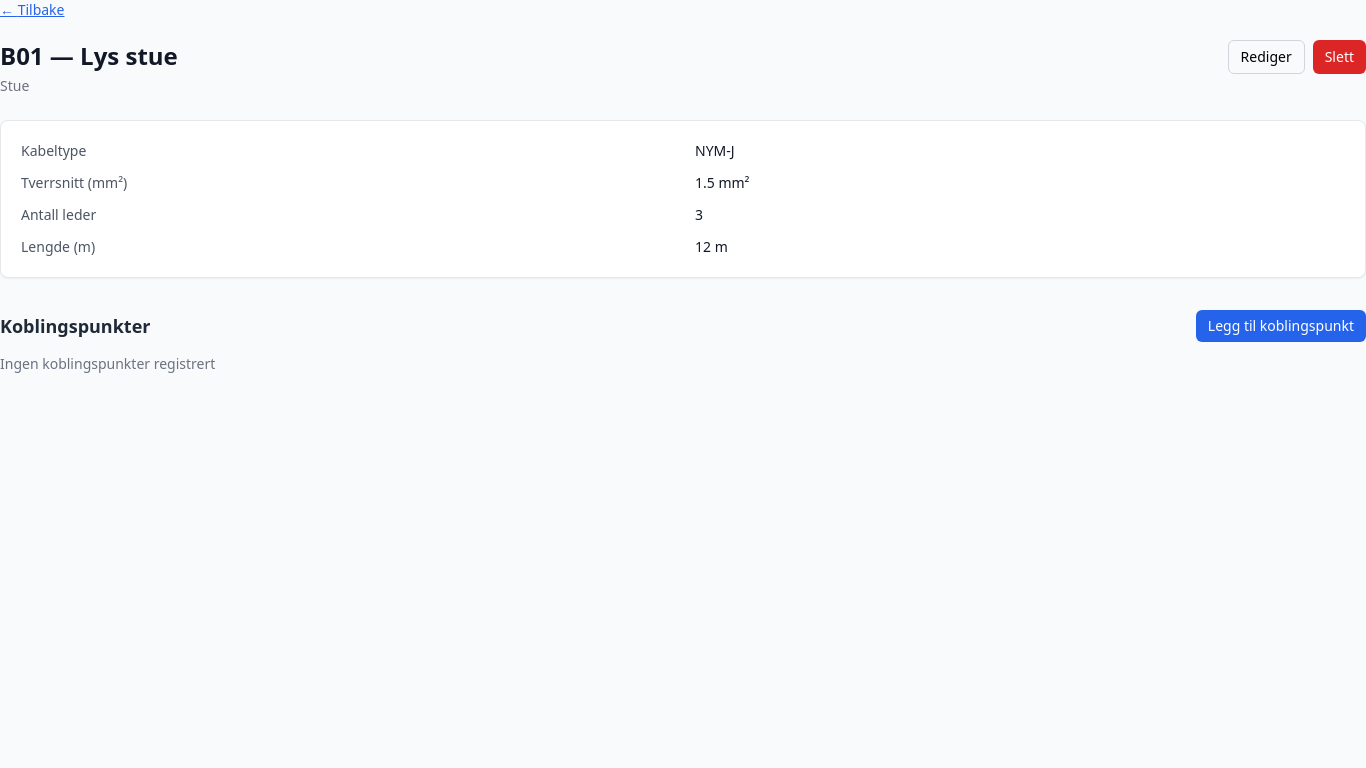
Test: CircuitDetail — connection point dialog validation › shows location error when submitting without location
Click the button "Legg til koblingspunkt": x=1281, y=326 [1196, 310, 1365, 342]
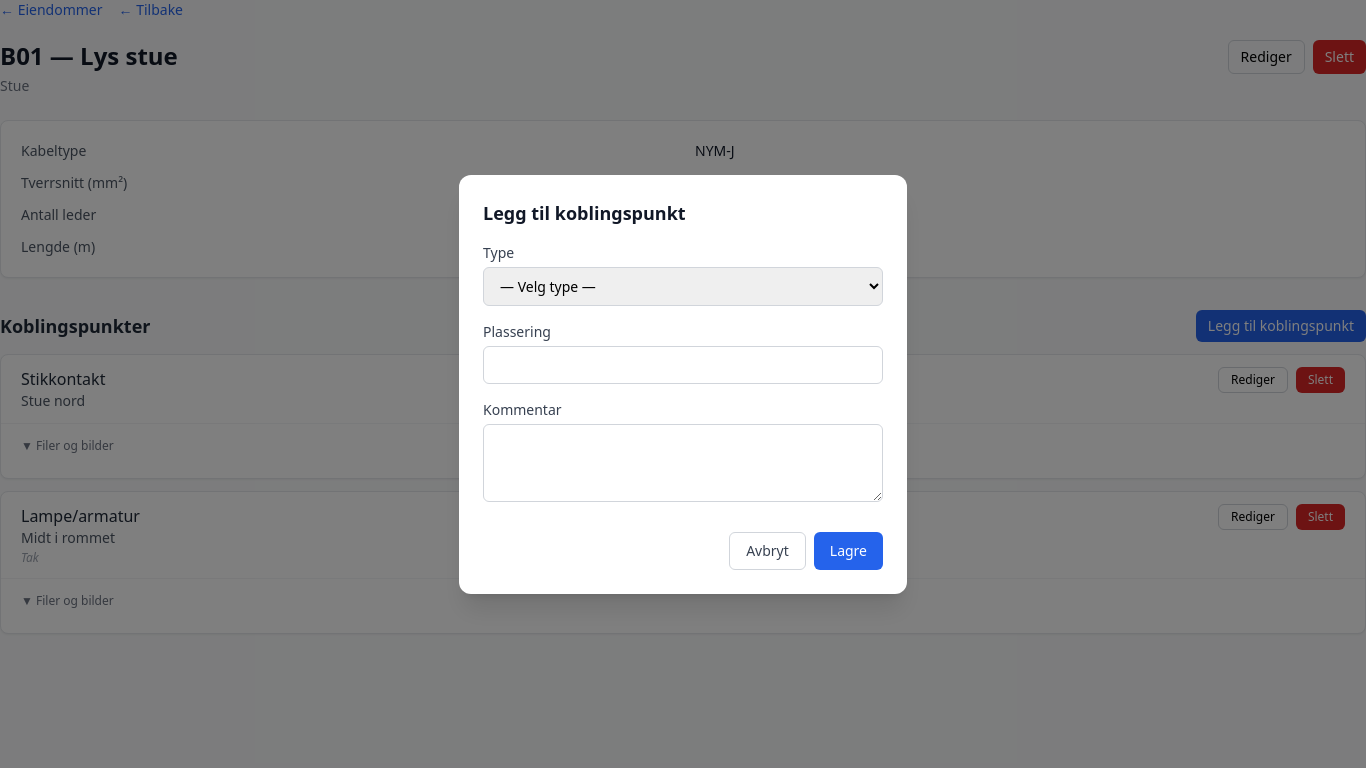
Select "Stikkontakt" in the dropdown: x=683, y=286 [483, 266, 883, 306]
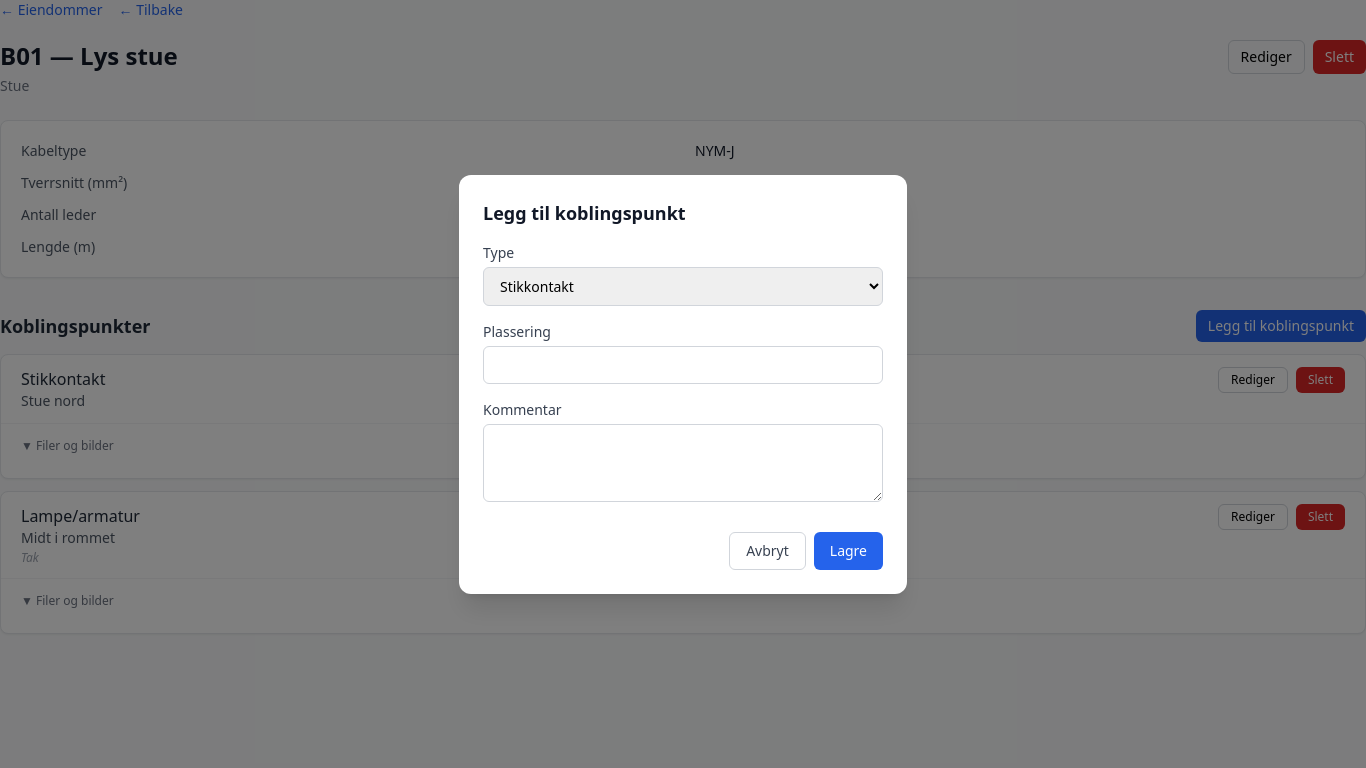
Click the button "Lagre": x=848, y=550 [814, 532, 883, 570]
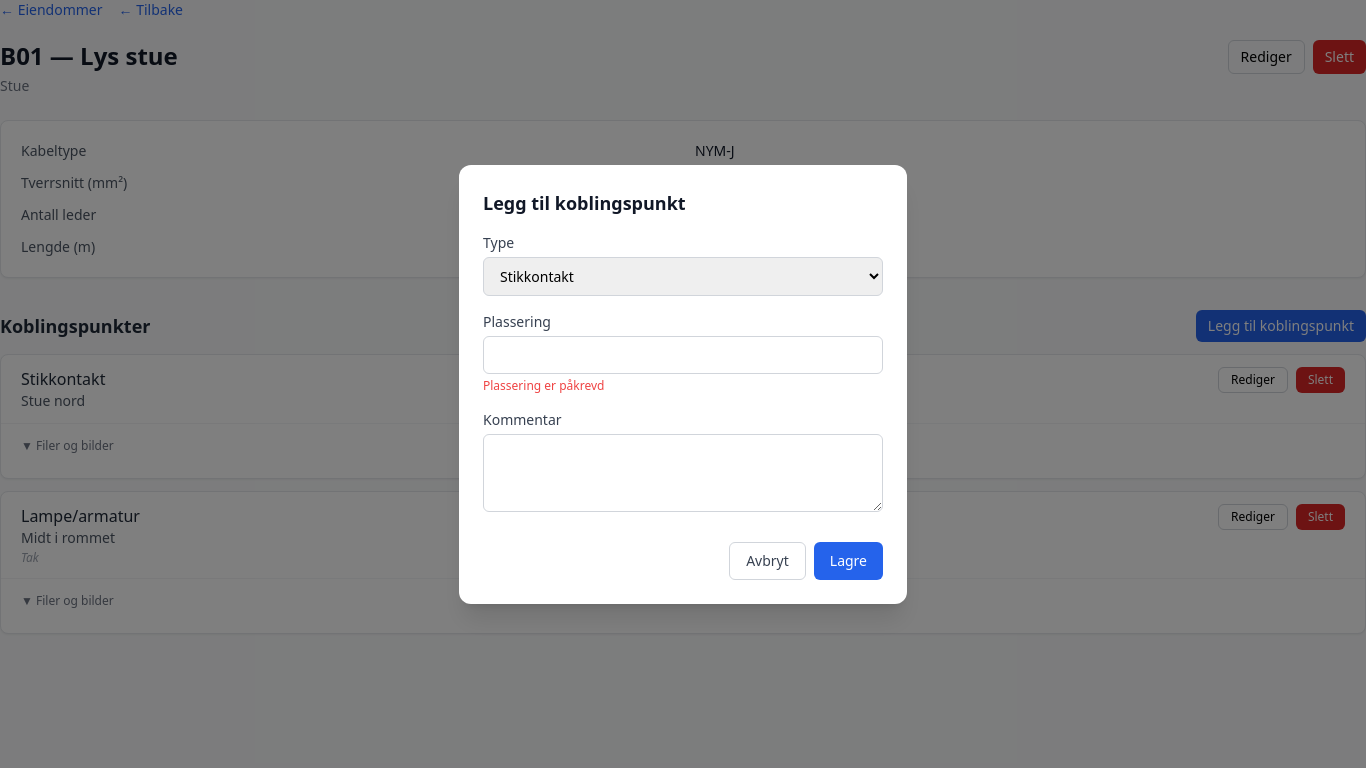
Expected: the text "Plassering er påkrevd" is shown, [483, 376, 604, 394]
